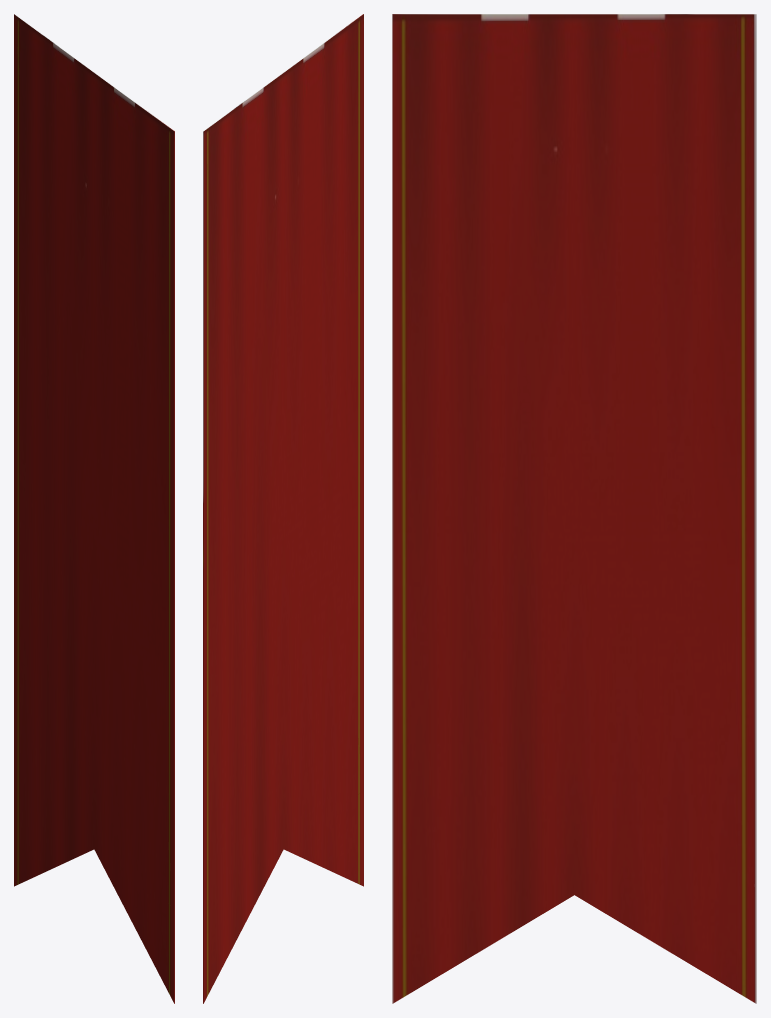
The model's file is red_banner.fbx.
3 renders of one model, left to right at view 1: azimuth 30°, elevation 25°; view 2: azimuth 150°, elevation 25°; view 3: azimuth 270°, elevation 25°, orthographic. The views are drawn at different scales.
Parts seen in each view (by area): view 1: Banner; view 2: Banner; view 3: Banner.
Part boxes in pixels (x1,y1,x2,y2): Banner: [14, 14, 174, 1003]; Banner: [203, 14, 363, 1003]; Banner: [392, 14, 756, 1003].
Bounding box in the file's own units: 0.2 × 300 × 100.
1 material, 1 textured.
